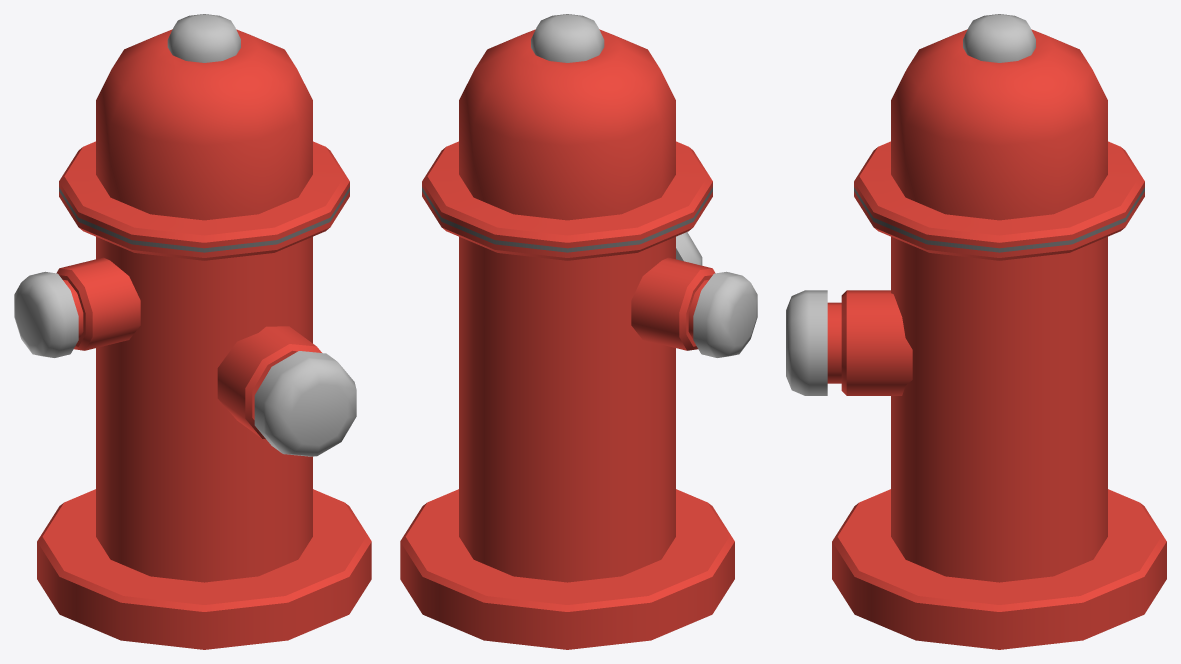
File: FireHydrant.fbx
The picture shows the model from 3 angles, left to right: view 1: azimuth 30°, elevation 25°; view 2: azimuth 150°, elevation 25°; view 3: azimuth 270°, elevation 25°; orthographic projection.
Parts seen in each view (by area): view 1: Fire Haydrat; view 2: Fire Haydrat; view 3: Fire Haydrat.
Boxes of the visible parts, x1,y1,x2,y2 form: Fire Haydrat: (14, 14, 371, 649); Fire Haydrat: (400, 14, 757, 649); Fire Haydrat: (786, 14, 1166, 649).
Bounding box in the file's own units: 130 × 216 × 134.
